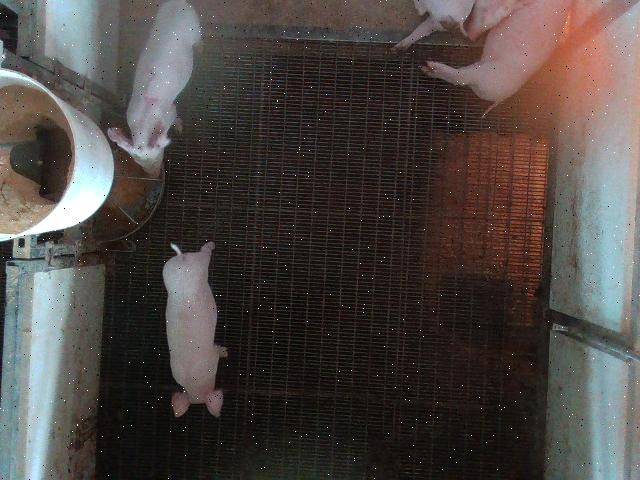pig-5: (108, 1, 201, 176)
